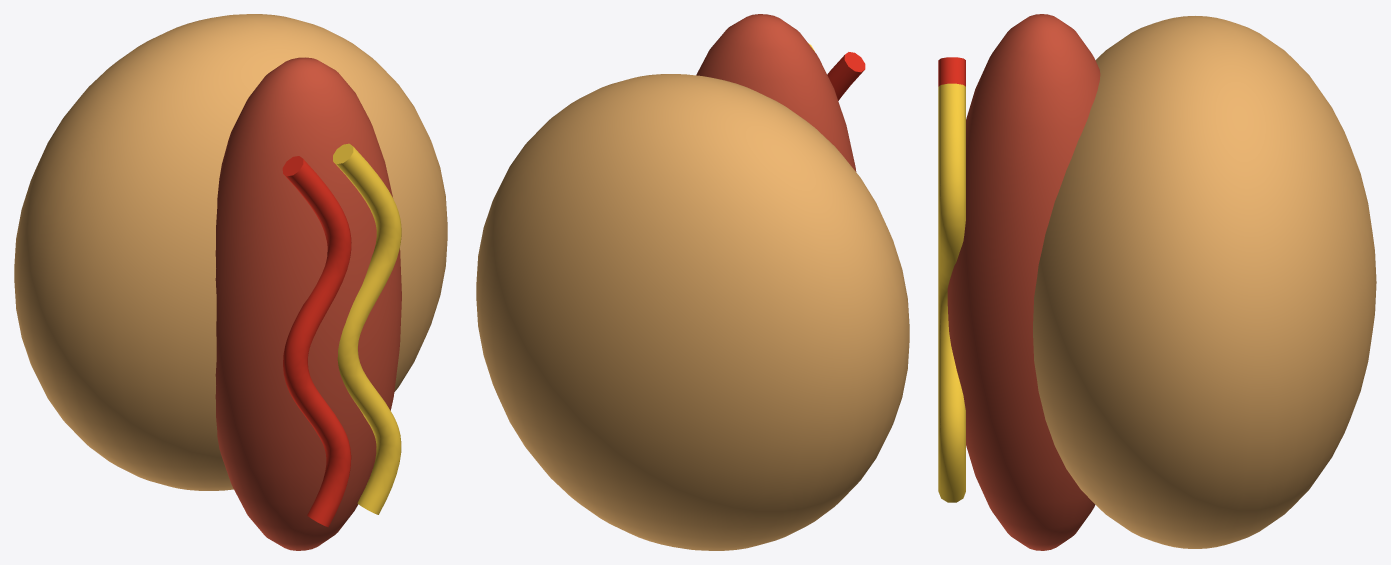
Rendered from tb_mat_polse.glb.
3 renders of one model, left to right at view 1: azimuth 30°, elevation 25°; view 2: azimuth 150°, elevation 25°; view 3: azimuth 270°, elevation 25°, orthographic. The views are drawn at different scales.
Parts seen in each view (by area): view 1: matkropp; view 2: matkropp; view 3: matkropp.
Part boxes in pixels (box(x1,y1,x2,y2)): matkropp: box(14, 14, 447, 550); matkropp: box(476, 14, 909, 550); matkropp: box(938, 14, 1376, 550).
Bounding box in the file's own units: 0.8 × 0.9288 × 0.6978.
